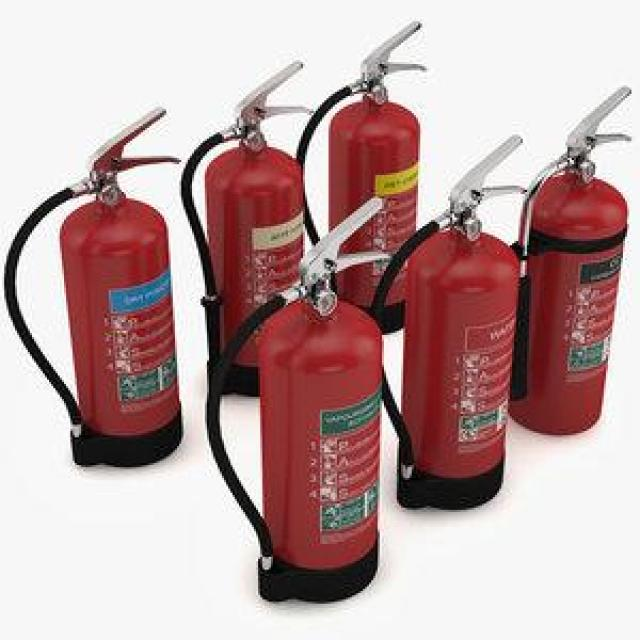fire_extinguisher: (198, 189, 390, 605), (1, 96, 191, 474), (361, 127, 531, 511), (175, 56, 324, 401), (492, 81, 634, 440), (287, 14, 432, 342)
